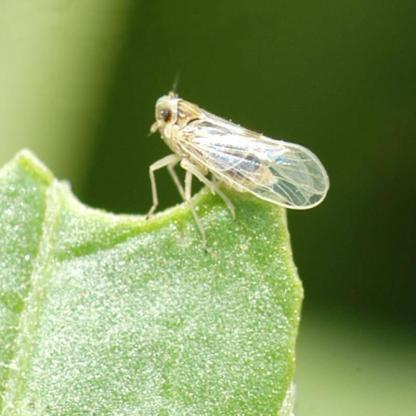brown-planthopper: (150, 85, 330, 210)
